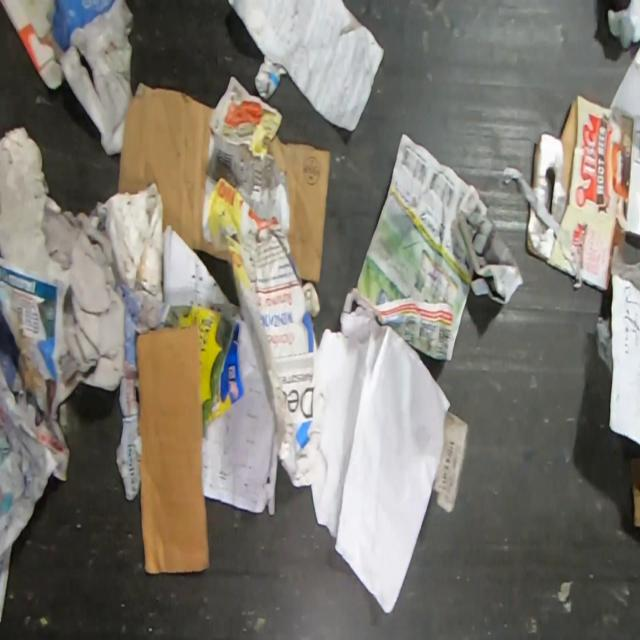cardboard: (117, 81, 332, 285), (531, 93, 640, 295), (135, 324, 211, 575), (526, 203, 576, 280), (630, 438, 639, 526)
soft_plastic: (608, 250, 640, 292), (594, 314, 613, 376)
